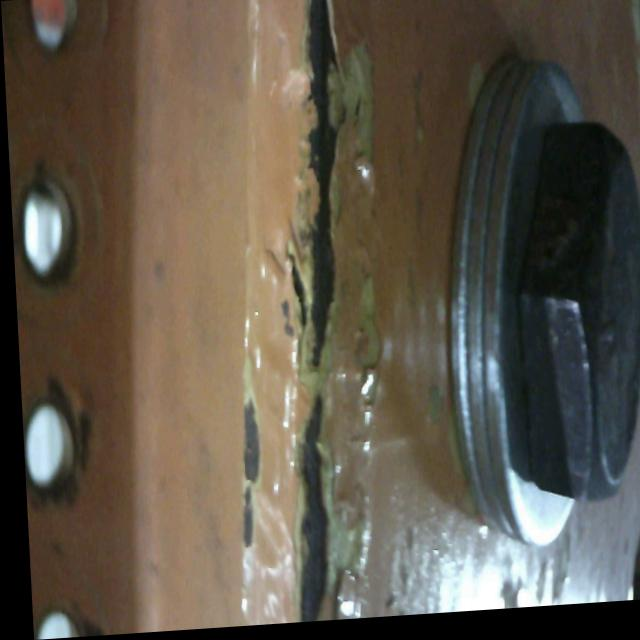Missing bolt: (16, 374, 88, 525), (9, 175, 83, 321), (21, 1, 88, 102), (25, 569, 88, 640), (611, 542, 640, 610), (637, 254, 640, 377)
Rusty bolt: (440, 78, 640, 549)
